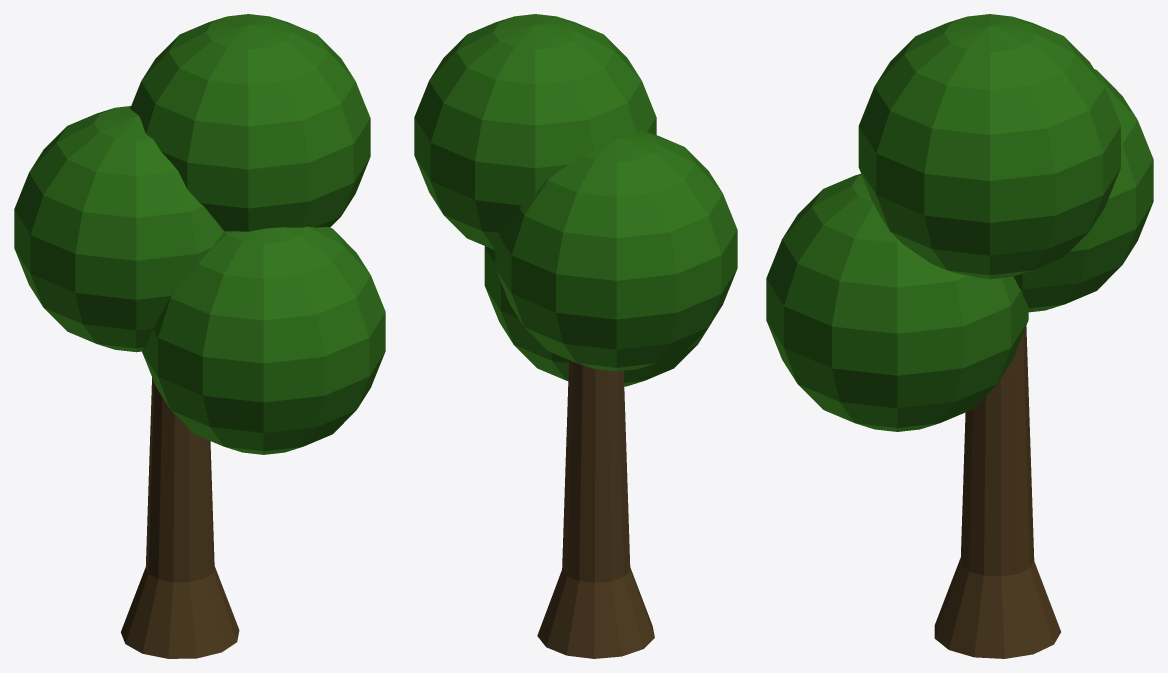
Rendered from tree.fbx.
The picture shows the model from 3 angles, left to right: view 1: azimuth 30°, elevation 25°; view 2: azimuth 150°, elevation 25°; view 3: azimuth 270°, elevation 25°; orthographic projection. The views are drawn at different scales.
Parts seen in each view (by area): view 1: Cylinder.003; view 2: Cylinder.003; view 3: Cylinder.003.
Part boxes in pixels (<box>): Cylinder.003: <box>14,14,385,658</box>; Cylinder.003: <box>414,14,737,658</box>; Cylinder.003: <box>766,14,1153,658</box>.
Bounding box in the file's own units: 164 × 302 × 166.
